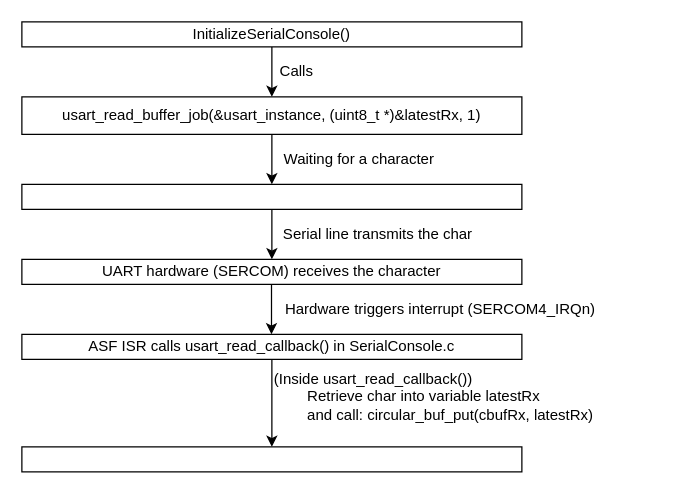
Image size: 694x494. Some labels were removed from this diagram. The centre of each missing label's shape, as x and y in pixels:
"Character stored in cbufRx (backed by rxCharacterBuffer, size 512)" belongs at [271,459].
"User types a character on the terminal" belongs at [271,196].
